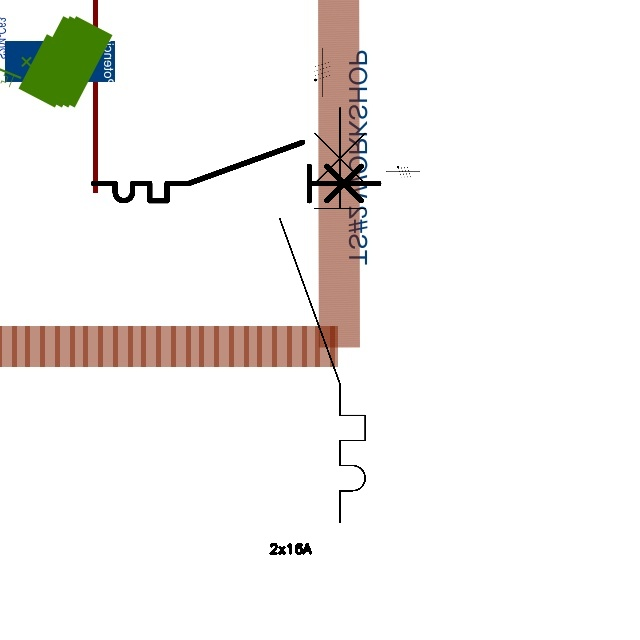interruptor_termomagnetico: (269, 97, 376, 533), (86, 135, 386, 208)
